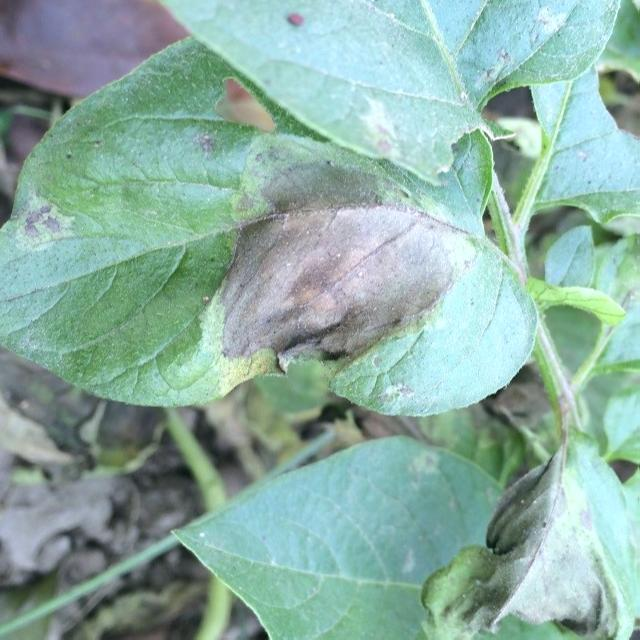Tomato leaf late blight: (181, 191, 562, 432), (430, 425, 640, 640)
